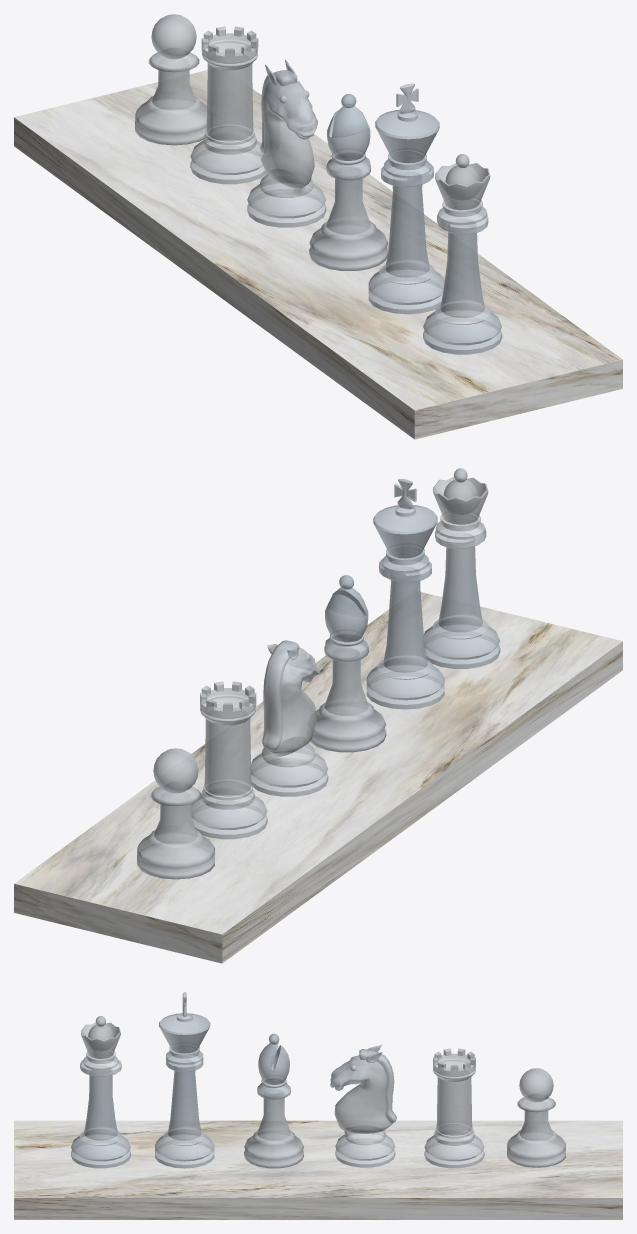
The model's file is glass_chess_pieces.glb.
3 views of the same model, one above another, from view 1: azimuth 30°, elevation 25°; view 2: azimuth 150°, elevation 25°; view 3: azimuth 270°, elevation 25° (orthographic). The views are drawn at different scales.
Parts seen in each view (by area): view 1: Box001, Chess_07 - Default_0; view 2: Box001, Chess_07 - Default_0; view 3: Box001, Chess_07 - Default_0.
Part boxes in pixels (bbox=[...]): Box001: bbox=[14, 70, 622, 439]; Chess_07 - Default_0: bbox=[135, 14, 502, 354]; Box001: bbox=[14, 592, 622, 963]; Chess_07 - Default_0: bbox=[137, 468, 500, 879]; Box001: bbox=[14, 1120, 622, 1219]; Chess_07 - Default_0: bbox=[71, 992, 565, 1168].
Bounding box in the file's own units: 1.38 × 1.56 × 4.59.
Materials: 2 (2 with a texture image).
